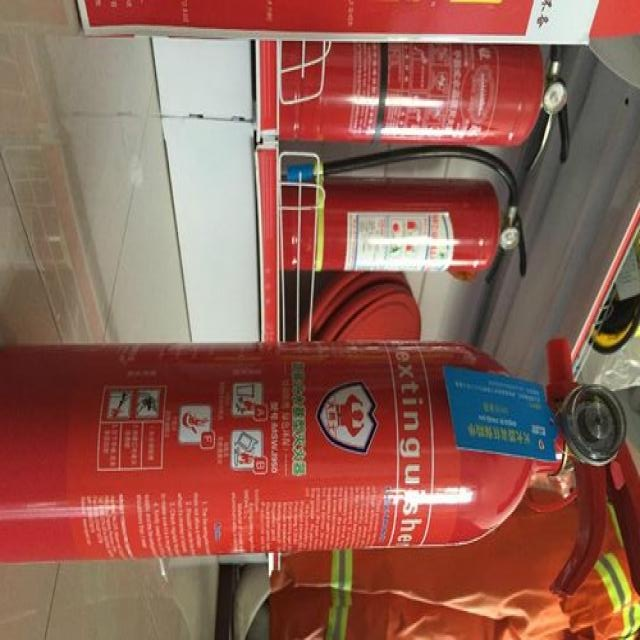fire extinguisher: (4, 278, 630, 603)
